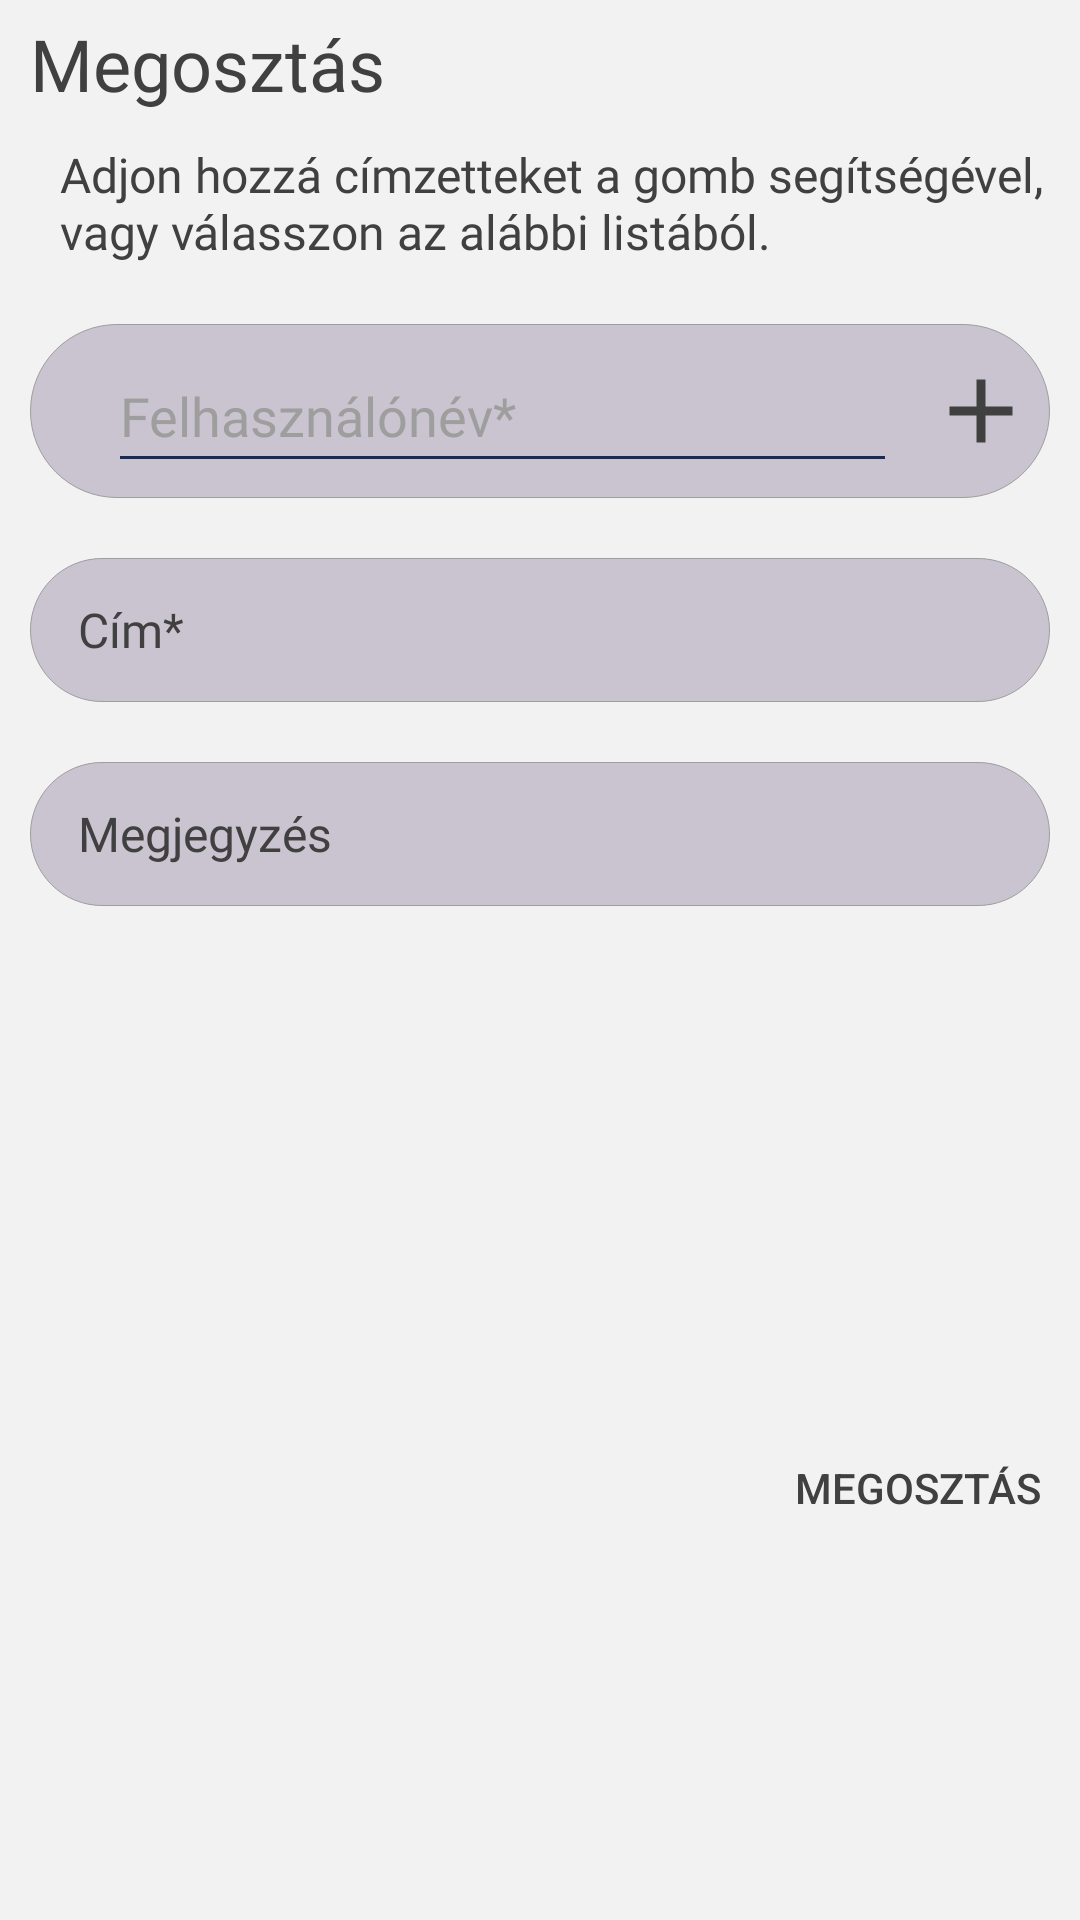

Screen size 1080 × 1920. Icon name, then its center in pixels as point (x, y):
add: point (981, 411)
